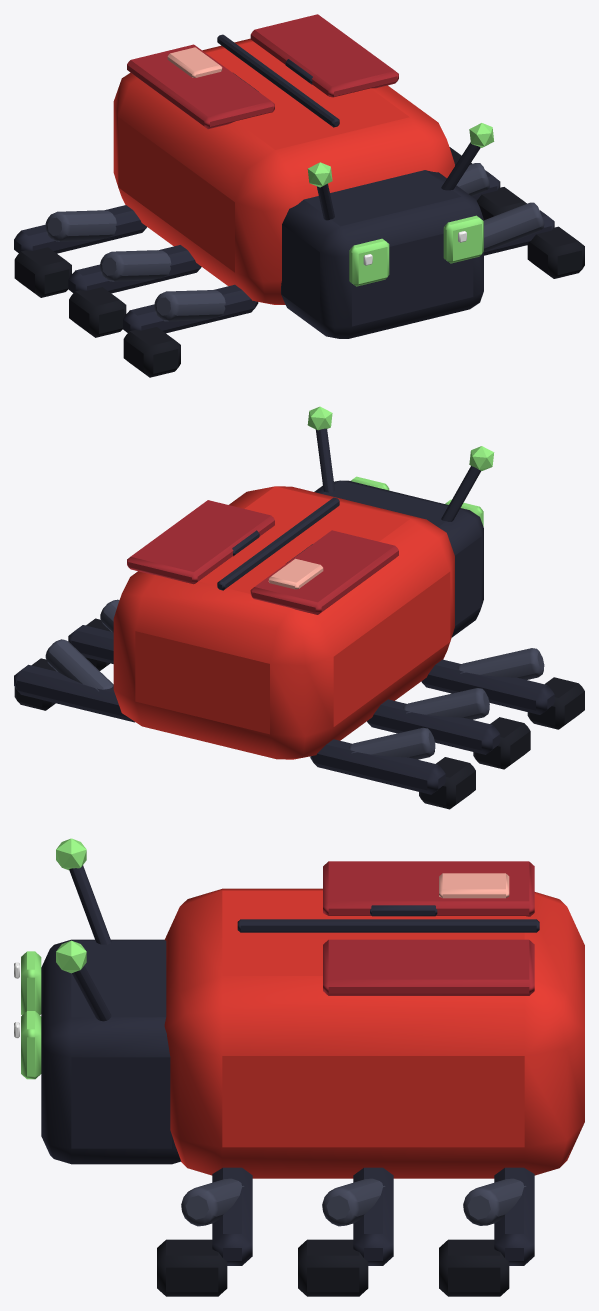
Rendered from bug.glb.
3 renders of one model, top to bottom at view 1: azimuth 30°, elevation 25°; view 2: azimuth 150°, elevation 25°; view 3: azimuth 270°, elevation 25°, orthographic. The views are drawn at different scales.
Visible parts, largest first — view 1: Batch_Body_CITY / #e5352b, Batch_Body_CITY / charcoal.020, Batch_Body_CITY / #a82932, Batch_Legs_CITY / rubber.020, Batch_Legs_CITY / #414558, Batch_Legs_CITY / charcoal.020, Batch_Eyes_CITY / #97f583, Batch_Body_CITY / #ffb1a2, Batch_Body_CITY / #97f583; view 2: Batch_Body_CITY / #e5352b, Batch_Legs_CITY / charcoal.020, Batch_Body_CITY / #a82932, Batch_Body_CITY / charcoal.020, Batch_Legs_CITY / #414558, Batch_Legs_CITY / rubber.020, Batch_Body_CITY / #ffb1a2, Batch_Body_CITY / #97f583; view 3: Batch_Body_CITY / #e5352b, Batch_Body_CITY / charcoal.020, Batch_Body_CITY / #a82932, Batch_Legs_CITY / rubber.020, Batch_Legs_CITY / charcoal.020, Batch_Legs_CITY / #414558, Batch_Eyes_CITY / #97f583, Batch_Body_CITY / #ffb1a2, Batch_Body_CITY / #97f583.
Boxes of the visible parts, x1,y1,x2,y2 form: Batch_Body_CITY / #e5352b: [113, 38, 454, 304]; Batch_Body_CITY / charcoal.020: [217, 34, 483, 338]; Batch_Body_CITY / #a82932: [127, 14, 398, 129]; Batch_Legs_CITY / rubber.020: [14, 147, 584, 377]; Batch_Legs_CITY / #414558: [45, 163, 544, 321]; Batch_Legs_CITY / charcoal.020: [14, 170, 554, 333]; Batch_Eyes_CITY / #97f583: [349, 215, 483, 286]; Batch_Body_CITY / #ffb1a2: [167, 47, 222, 77]; Batch_Body_CITY / #97f583: [307, 123, 494, 187]; Batch_Body_CITY / #e5352b: [113, 486, 454, 759]; Batch_Legs_CITY / charcoal.020: [14, 625, 554, 794]; Batch_Body_CITY / #a82932: [127, 500, 398, 614]; Batch_Body_CITY / charcoal.020: [217, 428, 483, 637]; Batch_Legs_CITY / #414558: [45, 599, 544, 759]; Batch_Legs_CITY / rubber.020: [14, 618, 584, 809]; Batch_Body_CITY / #ffb1a2: [268, 558, 323, 589]; Batch_Body_CITY / #97f583: [307, 406, 494, 470]; Batch_Body_CITY / #e5352b: [164, 888, 584, 1178]; Batch_Body_CITY / charcoal.020: [41, 865, 539, 1164]; Batch_Body_CITY / #a82932: [323, 861, 534, 995]; Batch_Legs_CITY / rubber.020: [157, 1239, 509, 1296]; Batch_Legs_CITY / charcoal.020: [212, 1167, 534, 1265]; Batch_Legs_CITY / #414558: [181, 1178, 526, 1226]; Batch_Eyes_CITY / #97f583: [21, 951, 41, 1079]; Batch_Body_CITY / #ffb1a2: [439, 873, 509, 898]; Batch_Body_CITY / #97f583: [56, 838, 86, 973].
Bounding box in the file's own units: 0.655 × 0.2975 × 0.567.
